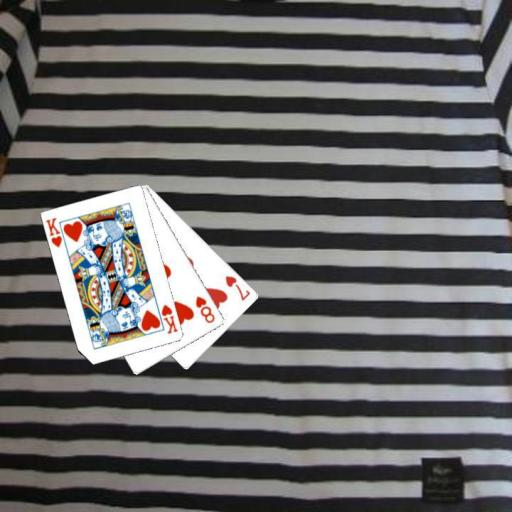7H: (223, 273, 253, 303)
8H: (193, 293, 217, 325)
KH: (43, 215, 64, 249), (159, 302, 179, 336)
